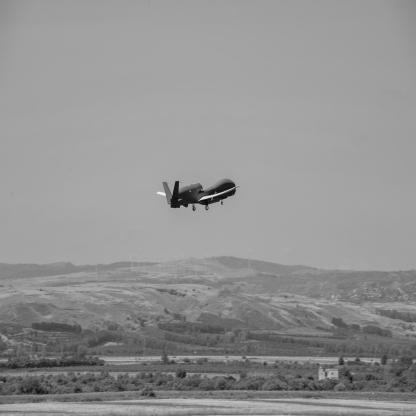RQ4: (157, 179, 241, 212)
